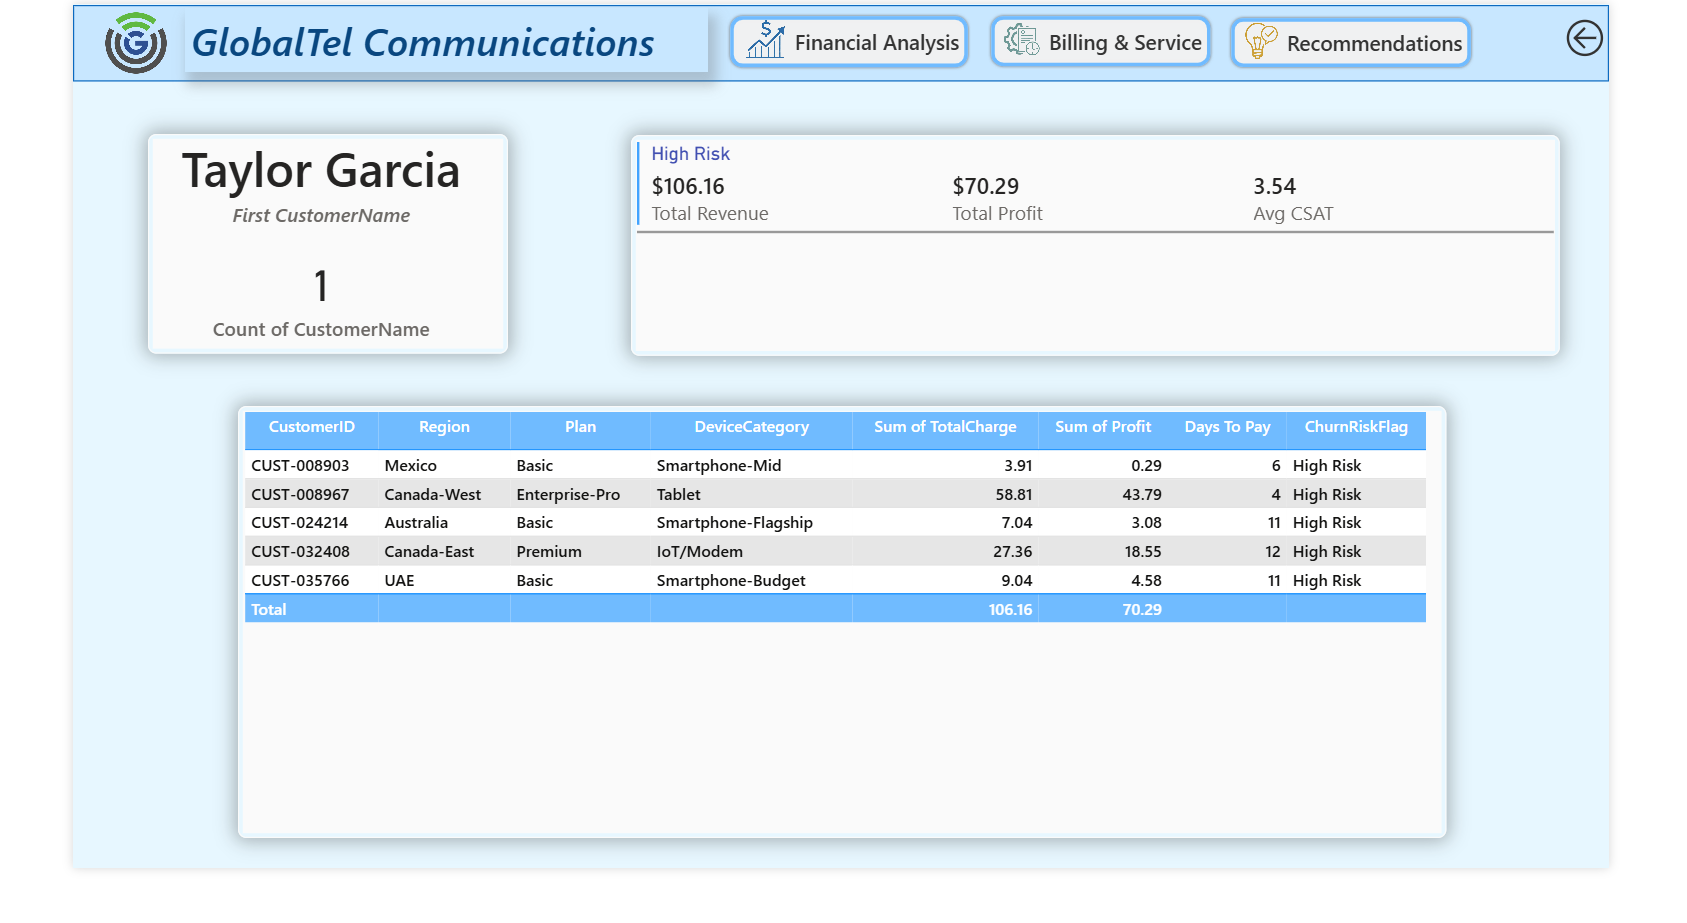

The page's visual inventory and layout, read from the dashboard file:
{"tool":"powerbi","page":{"name":"Customer Details","canvas":[1280,720],"ordinal":4},"visuals":[{"type":"shape","box":[62.6,108,300,182.9],"z":0},{"type":"shape","box":[465.1,108.9,774.3,184.3],"z":1000},{"type":"shape","box":[137.1,334.7,1007.1,360],"z":2000},{"type":"shape","box":[0,0.5,1280,63.8],"z":3000},{"type":"card","fields":{"Values":["Min(Telecom_Usage_Fact.CustomerName)"]},"box":[8.3,78,397.1,137.1],"z":4000},{"type":"multiRowCard","fields":{"Values":["Measure Table.Total Revenue","Measure Table.Total Profit","Measure Table.Avg CSAT","Telecom_Customers.ChurnRiskFlag"]},"box":[465.1,110.3,774.3,202.9],"z":5000},{"type":"tableEx","fields":{"Values":["Telecom_Usage_Fact.CustomerID","Telecom_Usage_Fact.Region","Telecom_Usage_Fact.Plan","Telecom_Usage_Fact.DeviceCategory","Sum(Telecom_Usage_Fact.TotalCharge)","Sum(Telecom_Usage_Fact.Profit)","Telecom_Usage_Fact.Days To Pay","Telecom_Customers.ChurnRiskFlag"]},"box":[137.1,334.7,1007.1,360],"z":6000},{"type":"card","fields":{"Values":["Count(Telecom_Usage_Fact.CustomerName)"]},"box":[92.6,185.1,228.6,114.3],"z":7000},{"type":"actionButton","box":[544.8,7.6,203.3,47.8],"z":8000},{"type":"actionButton","box":[762.7,7.8,188,47],"z":9000},{"type":"actionButton","box":[962.7,8.8,205,46],"z":10000},{"type":"image","box":[514.8,-0.1,116.7,63.3],"z":11000},{"type":"image","box":[941.7,2.8,76,63],"z":12000},{"type":"image","box":[762.7,2.8,56,58],"z":13000},{"type":"actionButton","box":[1173.8,7.7,106.2,41.5],"z":14000},{"type":"image","box":[0,0,104.7,65.9],"z":15000},{"type":"textbox","box":[93.4,3.6,436.2,53.1],"z":16000}]}

Visuals, with their boxes in screenshot pixels (x1, y1, x2, y2), scaled from the page's 1280x720 canvas onto the 1687x923 screenshot:
shape: 83,138,478,373
shape: 613,140,1633,376
shape: 181,429,1508,891
shape: 0,1,1686,82
card - Min(Telecom_Usage_Fact.CustomerName): 11,100,534,276
multiRowCard - Measure Table.Total Revenue x Measure Table.Total Profit: 613,141,1633,402
tableEx - Telecom_Usage_Fact.CustomerID x Telecom_Usage_Fact.Region: 181,429,1508,891
card - Count(Telecom_Usage_Fact.CustomerName): 122,237,423,384
actionButton: 718,10,986,71
actionButton: 1005,10,1253,70
actionButton: 1269,11,1539,70
image: 678,0,832,81
image: 1241,4,1341,84
image: 1005,4,1079,78
actionButton: 1547,10,1686,63
image: 0,0,138,84
textbox: 123,5,698,73
